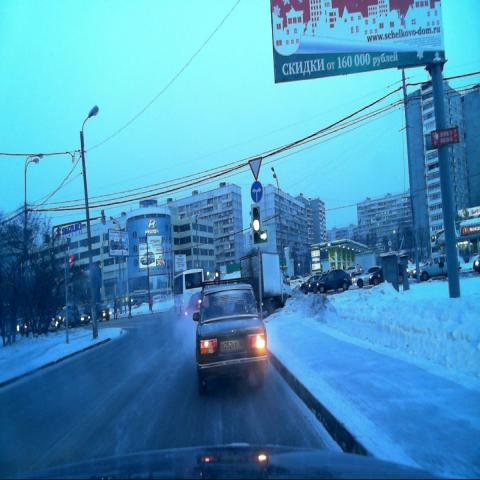2_4: (248, 155, 262, 181)
4_1_6: (250, 181, 263, 205)
